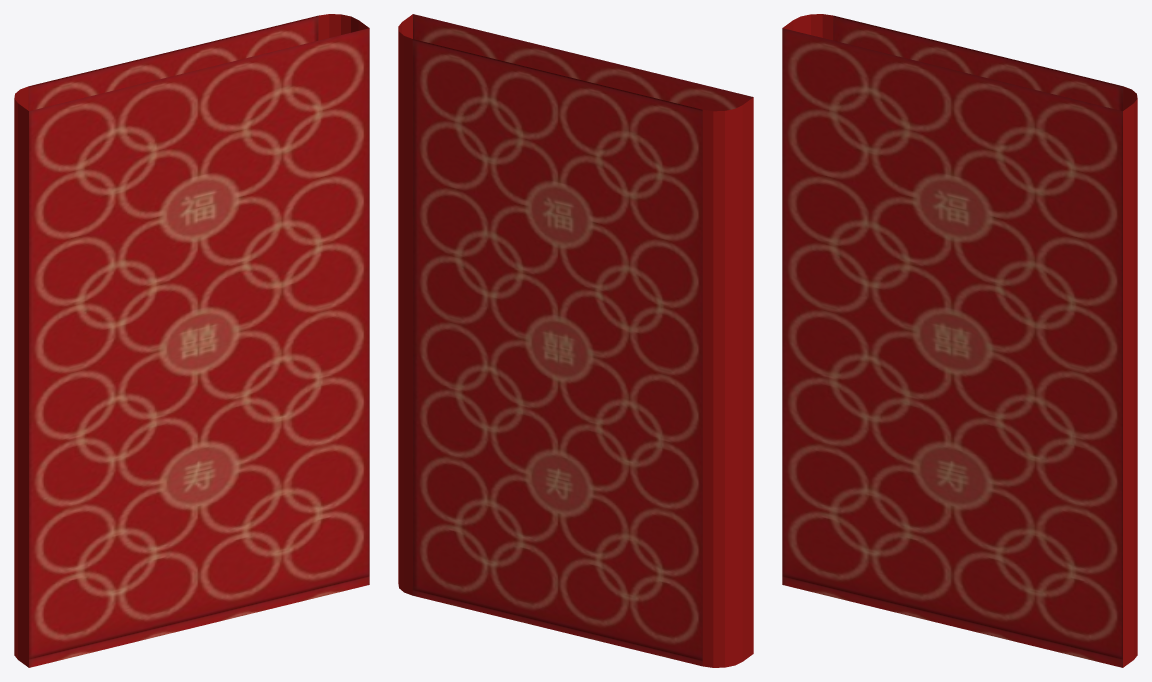
The model's file is Amplop2.fbx.
The picture shows the model from 3 angles, left to right: view 1: azimuth 30°, elevation 25°; view 2: azimuth 150°, elevation 25°; view 3: azimuth 330°, elevation 25°; orthographic projection.
Visible parts, largest first — view 1: Cube; view 2: Cube; view 3: Cube.
Part boxes in pixels (box(x1,y1,x2,y2)): Cube: box(14, 14, 369, 667); Cube: box(398, 14, 753, 667); Cube: box(782, 14, 1137, 667).
Size of the model in its own units: 200 by 312 by 26.12.
